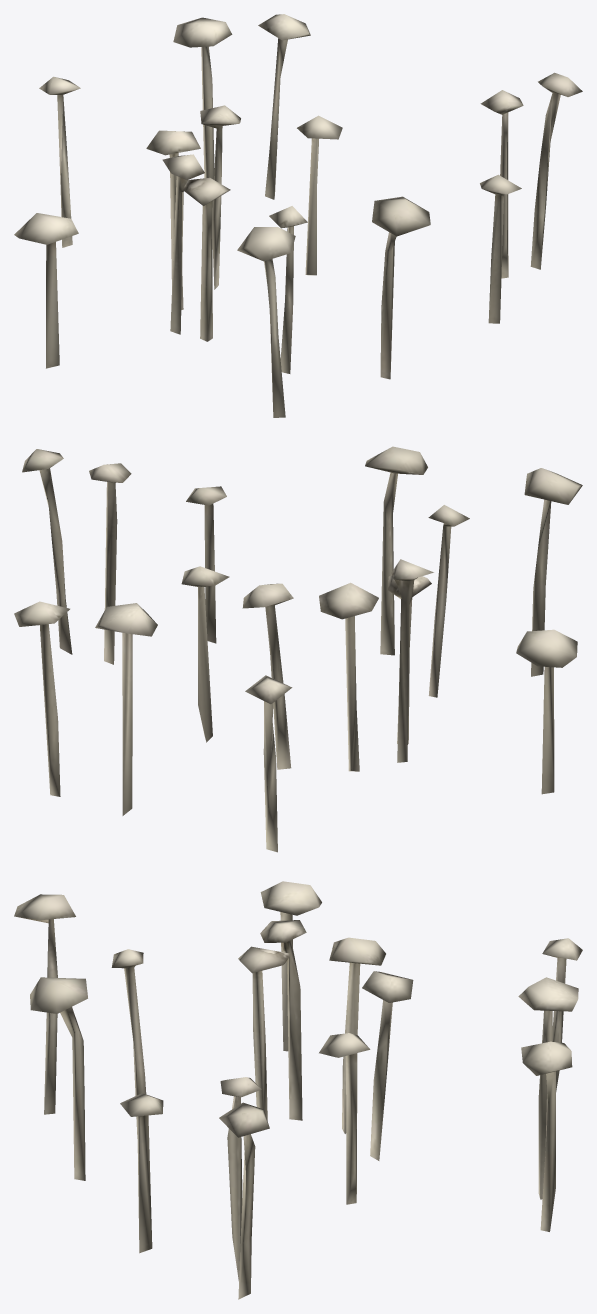
The model's file is mushgrass_f.glb.
3 views of the same model, one above another, from view 1: azimuth 30°, elevation 25°; view 2: azimuth 150°, elevation 25°; view 3: azimuth 270°, elevation 25° (orthographic). The views are drawn at different scales.
Parts seen in each view (by area): view 1: mushgrass; view 2: mushgrass; view 3: mushgrass.
Boxes of the visible parts, bbox=[...] form: mushgrass: bbox=[14, 14, 582, 417]; mushgrass: bbox=[14, 446, 582, 852]; mushgrass: bbox=[14, 881, 582, 1299].
Bounding box in the file's own units: 0.1926 × 0.0665 × 0.1605.
Materials: 1 (1 with a texture image).
